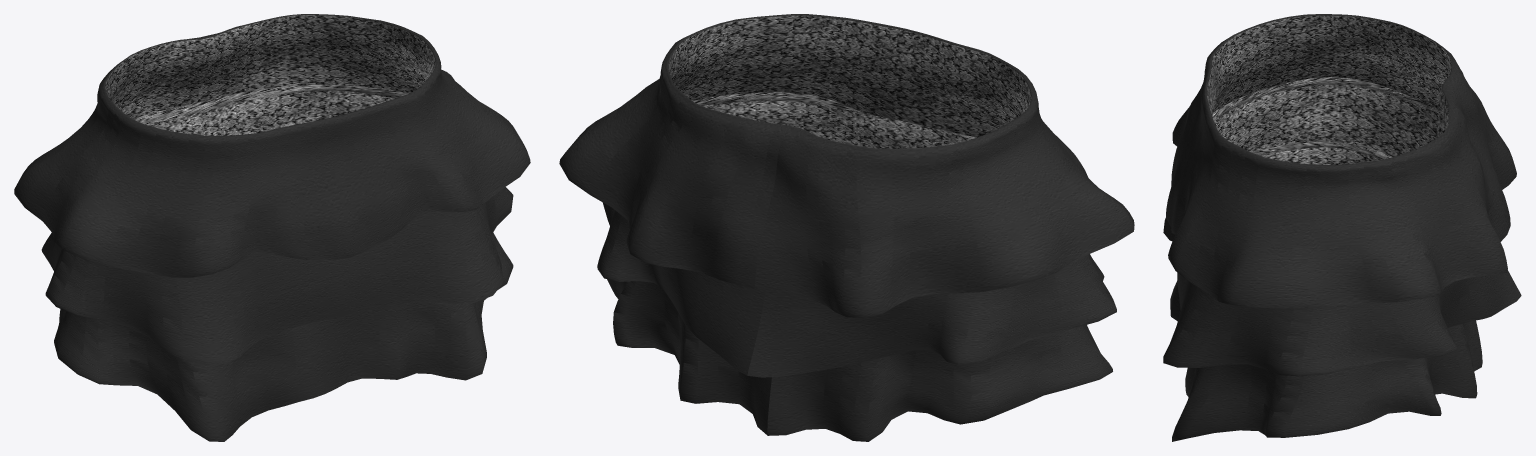
File: toigo-tiered-mini-skirt.glb
The picture shows the model from 3 angles, left to right: view 1: azimuth 30°, elevation 25°; view 2: azimuth 150°, elevation 25°; view 3: azimuth 270°, elevation 25°; orthographic projection. The views are drawn at different scales.
Visible parts, largest first — view 1: tiered mini skirt; view 2: tiered mini skirt; view 3: tiered mini skirt.
Part boxes in pixels (x1,y1,x2,y2): tiered mini skirt: (14, 14, 530, 441); tiered mini skirt: (559, 14, 1134, 441); tiered mini skirt: (1163, 14, 1521, 441).
Size of the model in its own units: 48.78 by 28.51 by 31.83.
1 material, 1 textured.
